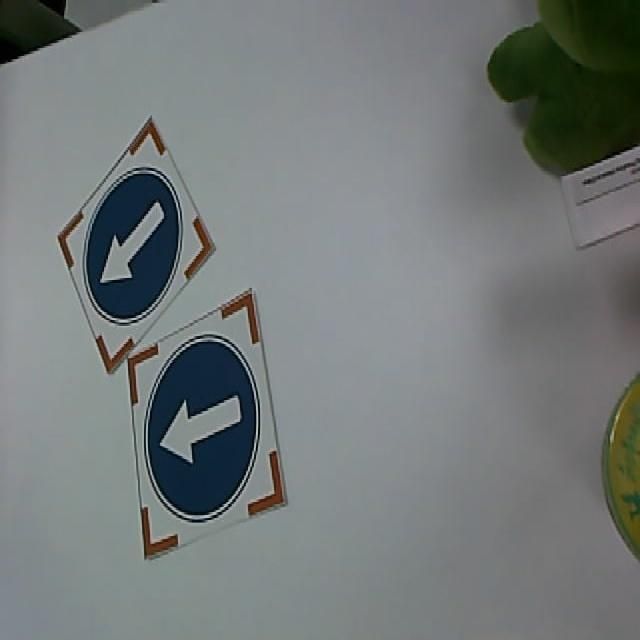straight: (146, 333, 260, 520), (84, 170, 182, 322)
